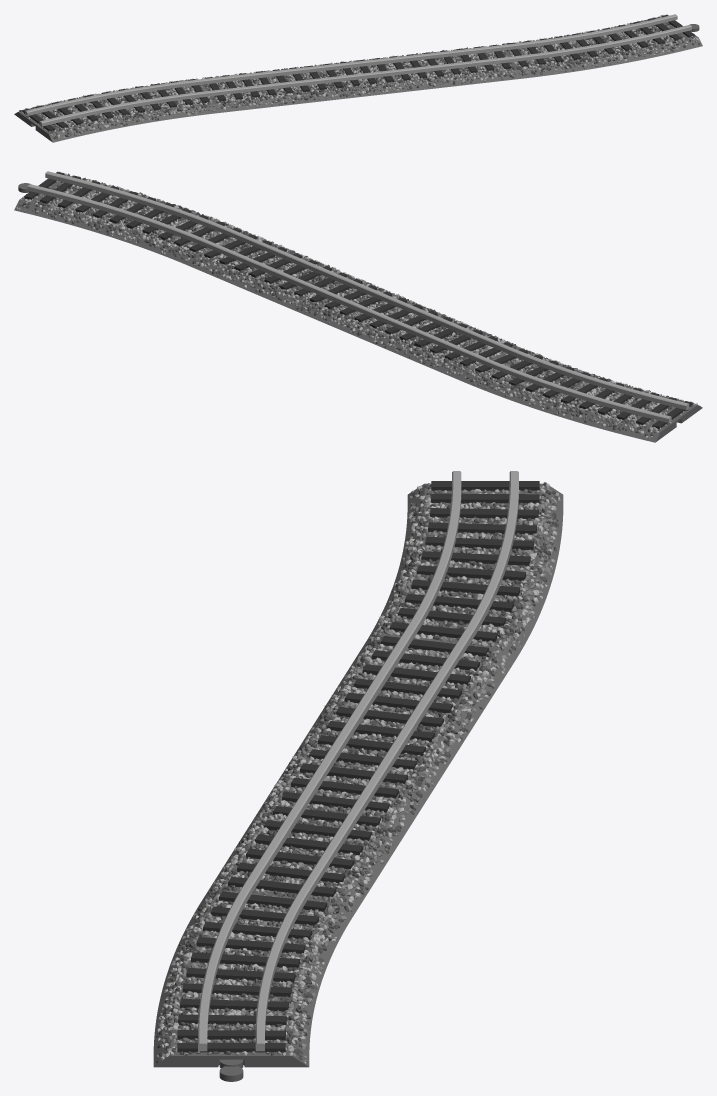
Rendered from Rail_Shift_Right_075.obj.
3 views of the same model, one above another, from view 1: azimuth 30°, elevation 25°; view 2: azimuth 150°, elevation 25°; view 3: azimuth 270°, elevation 25° (orthographic). The views are drawn at different scales.
Visible parts, largest first — view 1: Rail_Shift_Right_075; view 2: Rail_Shift_Right_075; view 3: Rail_Shift_Right_075.
Boxes of the visible parts, x1,y1,x2,y2 form: Rail_Shift_Right_075: [14, 14, 702, 142]; Rail_Shift_Right_075: [14, 171, 702, 442]; Rail_Shift_Right_075: [153, 471, 563, 1081].
Size of the model in its own units: 4.1 by 0.081 by 1.21.
Materials: 1 (1 with a texture image).
